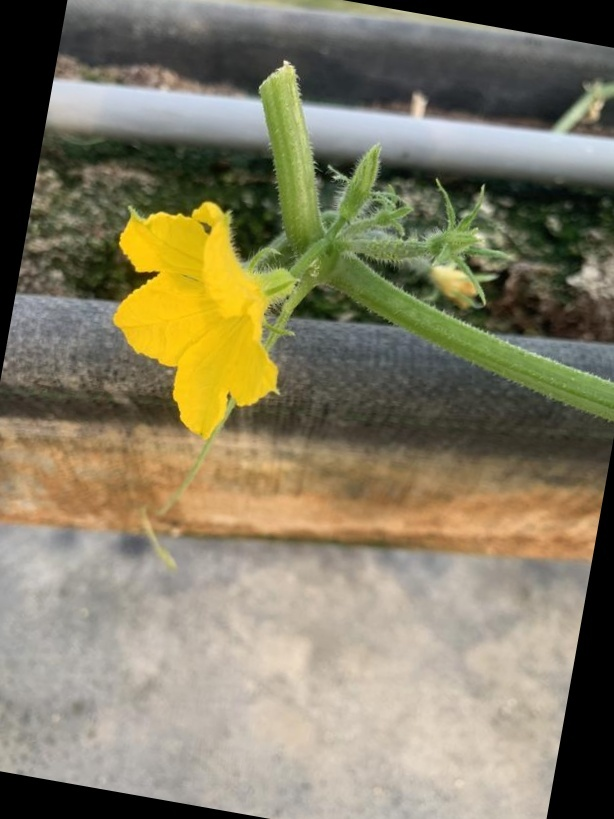flowering: (98, 199, 330, 443)
